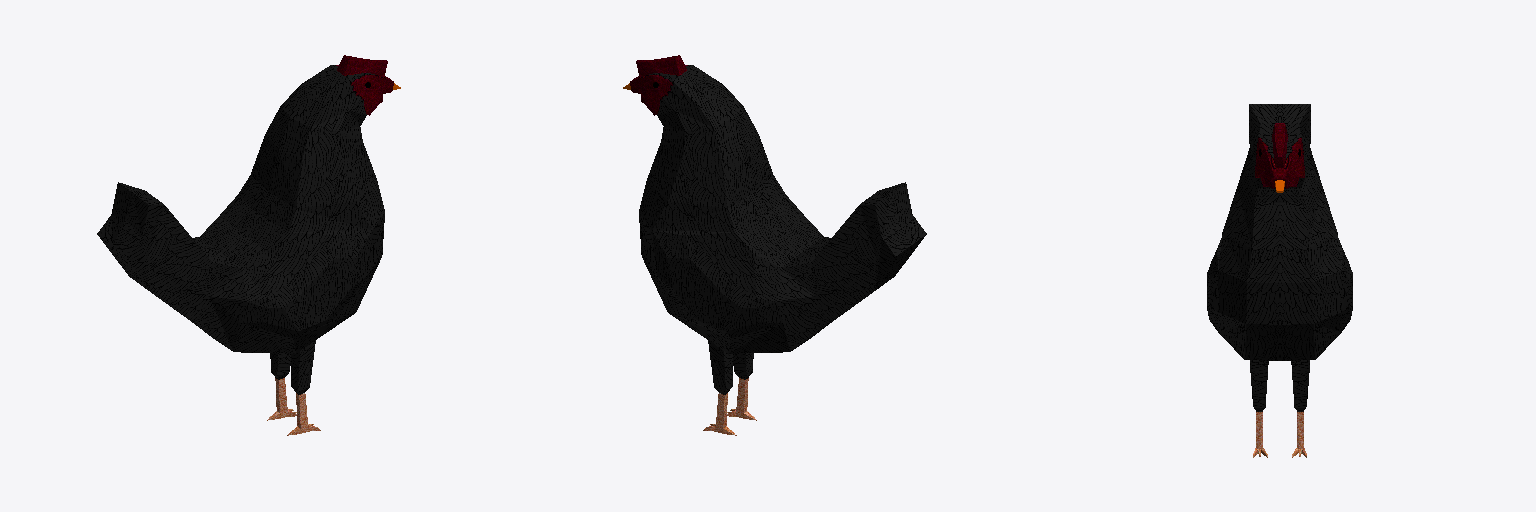
3 views of the same model, side by side, from view 1: azimuth 30°, elevation 25°; view 2: azimuth 150°, elevation 25°; view 3: azimuth 270°, elevation 25° (orthographic).
Visible parts, largest first — view 1: Cube_Cube.002; view 2: Cube_Cube.002; view 3: Cube_Cube.002.
Part boxes in pixels (bbox=[...]): Cube_Cube.002: bbox=[97, 55, 400, 435]; Cube_Cube.002: bbox=[623, 55, 926, 435]; Cube_Cube.002: bbox=[1207, 104, 1352, 457].
Bounding box in the file's own units: 3.98 × 4.7 × 1.76.
1 materials, 1 textured.